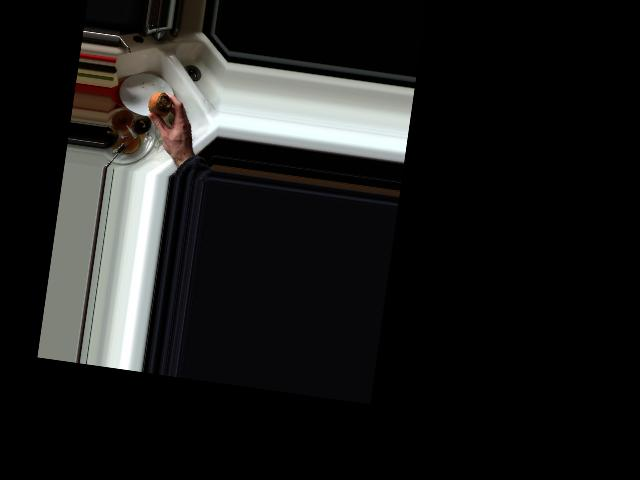sweet_potato: (145, 89, 174, 123)
